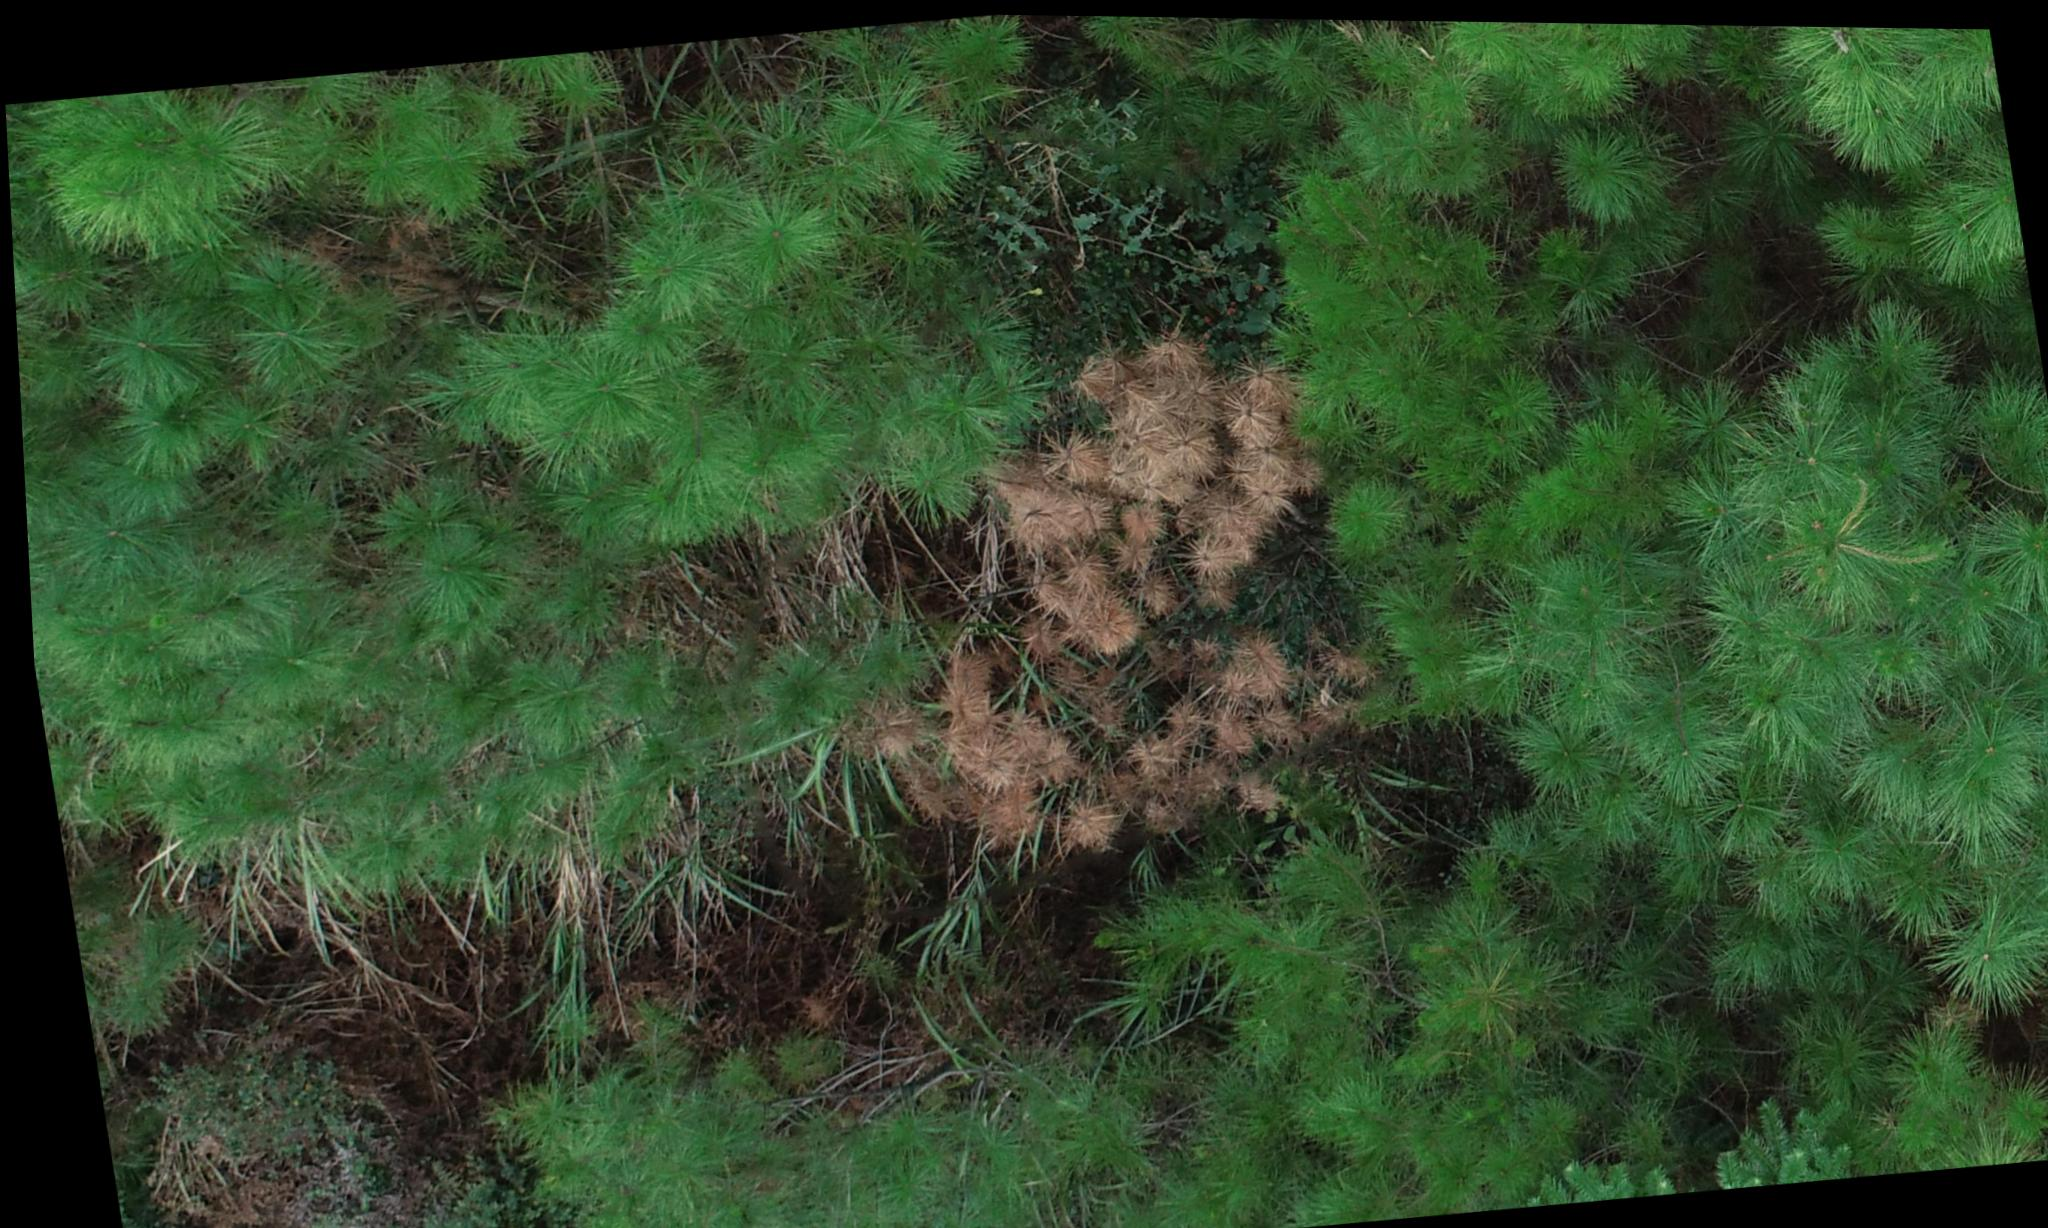heavy: (842, 621, 1367, 854), (959, 338, 1324, 640)
